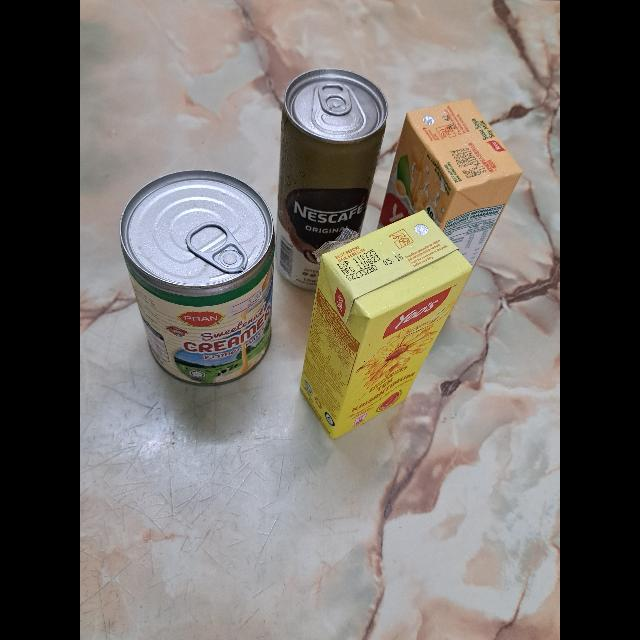aba de lata: (186, 222, 248, 274), (318, 82, 352, 116)
caixinha: (297, 208, 473, 442), (376, 97, 524, 265)
lata: (121, 168, 275, 386), (276, 68, 388, 290)
